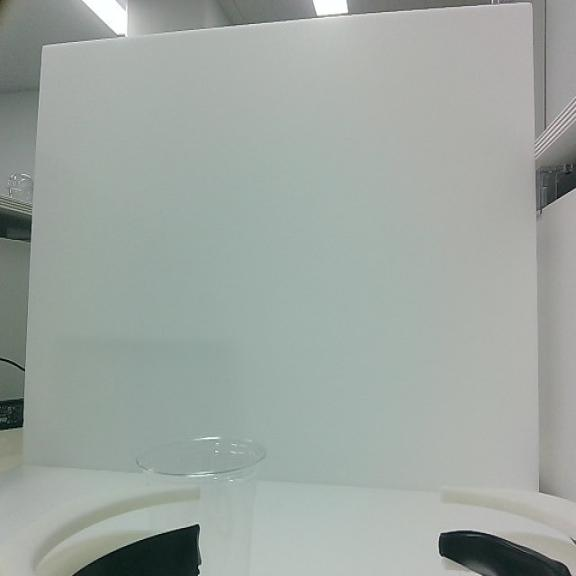Plastik: (132, 435, 268, 576)
